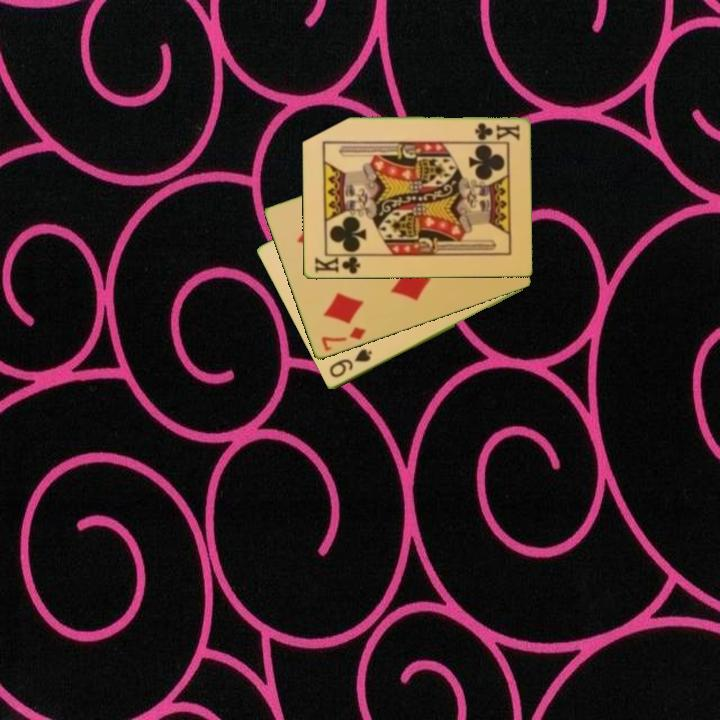7d: (318, 324, 368, 354)
9s: (325, 346, 375, 381)
Kc: (311, 252, 365, 277), (471, 120, 522, 142)
